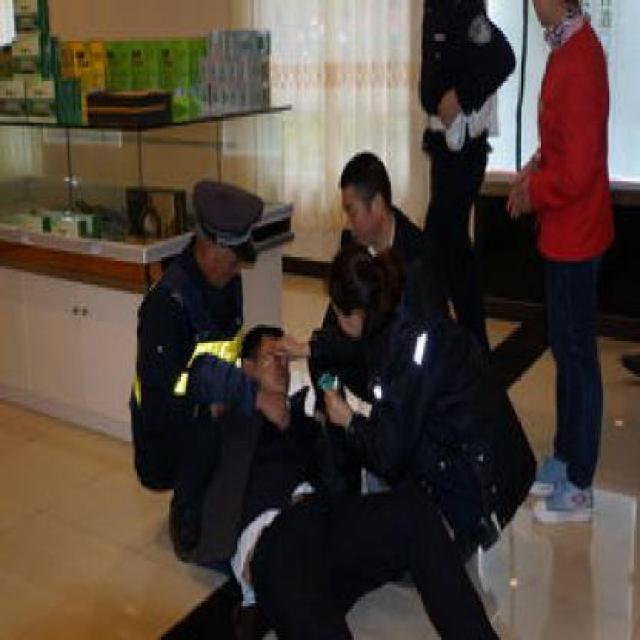fall: (202, 297, 507, 637)
